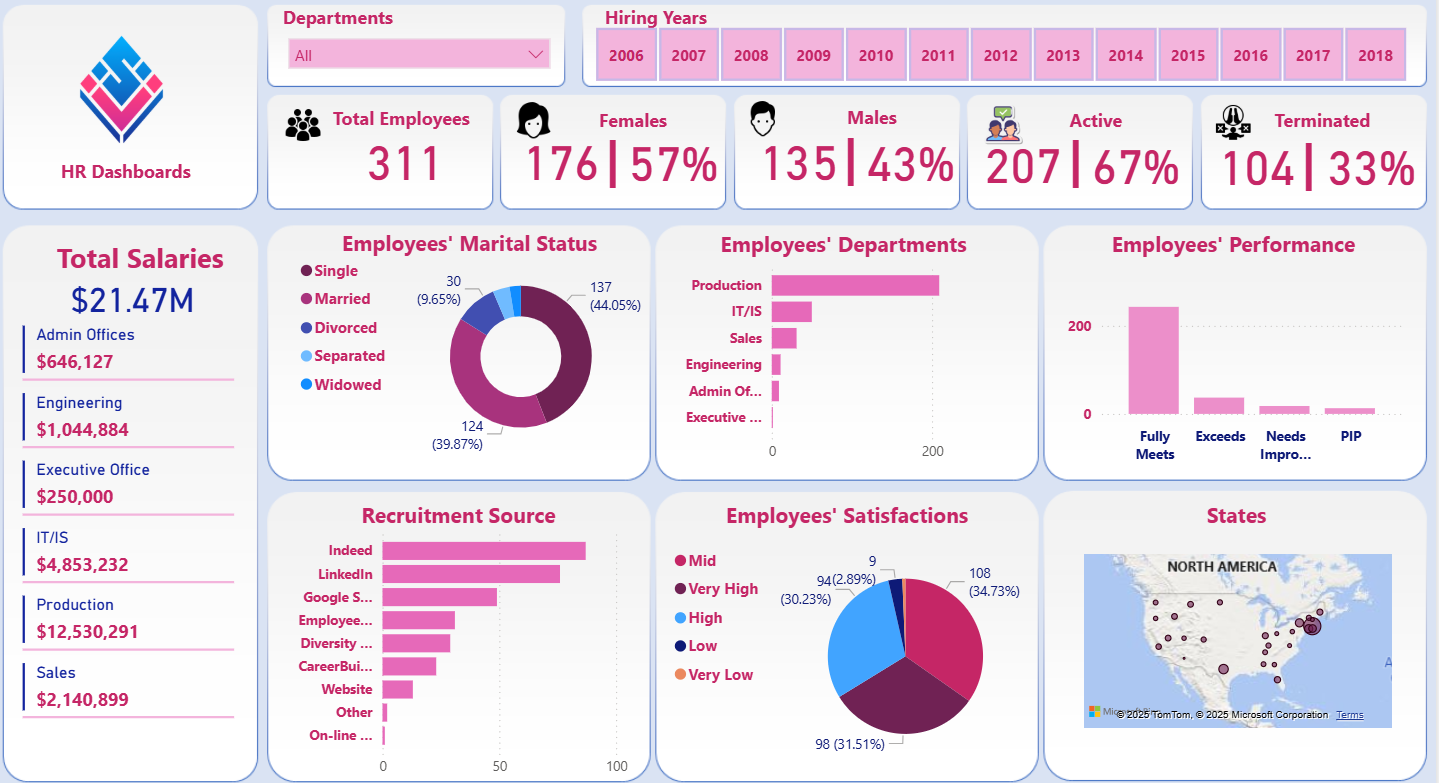

This screenshot's page, from the dashboard's own definition file:
{"tool":"powerbi","page":{"name":"Dashboard Testing","canvas":[1280,720],"ordinal":0},"visuals":[{"type":"image","box":[39.6,18,144.7,144.7],"z":0},{"type":"textbox","box":[52.1,146.5,126.7,39.6],"z":1000},{"type":"textbox","box":[249.9,9.9,126.7,39.6],"z":2000},{"type":"textbox","box":[535.7,9.9,126.7,39.6],"z":3000},{"type":"slicer","fields":{"Values":["HRData.Department"]},"box":[249.9,35.1,252.6,44.9],"z":4000},{"type":"slicer","fields":{"Values":["HRData.Hiring Year"]},"box":[507.9,28.8,769.4,61.1],"z":5000},{"type":"textbox","box":[293.9,99.8,147.4,38.7],"z":6000},{"type":"image","box":[252.6,101.6,41.3,41.3],"z":7000},{"type":"card","fields":{"Values":["All Measures.Total Employees"]},"box":[293.9,99.8,138.4,103.4],"z":8000},{"type":"textbox","box":[492.6,101.6,147.4,38.7],"z":9000},{"type":"card","fields":{"Values":["All Measures.Female"]},"box":[444,112.4,115.1,78.2],"z":10000},{"type":"image","box":[453,95.3,49.4,44.9],"z":11000},{"type":"textbox","box":[535.7,117.8,46.7,89],"z":12000},{"type":"card","fields":{"Values":["All Measures.Female %"]},"box":[543.8,113.3,115.1,78.2],"z":13000},{"type":"textbox","box":[704.8,99,147.4,38.7],"z":14000},{"type":"card","fields":{"Values":["All Measures.Male"]},"box":[656.2,112.4,115.1,78.2],"z":15000},{"type":"textbox","box":[748,115.2,46.7,89],"z":16000},{"type":"card","fields":{"Values":["All Measures.Male %"]},"box":[756,113.3,115.1,78.2],"z":17000},{"type":"image","box":[658.9,94.4,45.8,44],"z":18000},{"type":"textbox","box":[904.2,101.6,147.4,38.7],"z":19000},{"type":"card","fields":{"Values":["All Measures.Active Employees"]},"box":[855.5,114.9,115.1,78.2],"z":20000},{"type":"textbox","box":[947.3,117.8,46.7,89],"z":21000},{"type":"card","fields":{"Values":["All Measures.Active %"]},"box":[955.5,116,115.1,78.2],"z":22000},{"type":"image","box":[871,97.1,47.6,47.6],"z":23000},{"type":"textbox","box":[1100.2,101.6,161.8,38.7],"z":24000},{"type":"card","fields":{"Values":["All Measures.Terminated Employees"]},"box":[1063.3,116.9,115.1,78.2],"z":25000},{"type":"textbox","box":[1155.1,119.7,46.7,89],"z":26000},{"type":"card","fields":{"Values":["All Measures.Terminated %"]},"box":[1164.9,116.9,115.1,78.2],"z":27000},{"type":"image","box":[1078.7,97.1,43.1,44],"z":28000},{"type":"textbox","box":[48.5,217.5,245.4,57.5],"z":29000},{"type":"card","fields":{"Values":["All Measures.Total Salaries"]},"box":[26.1,232.8,190.6,84.5],"z":30000},{"type":"multiRowCard","fields":{"Values":["HRData.Department","All Measures.Total Salaries"]},"box":[18.9,294.8,197.8,386.5],"z":31000},{"type":"donutChart","fields":{"Category":["HRData.MaritalStatus"],"Y":["All Measures.Total Employees"]},"box":[265.2,232.8,317.3,189.7],"z":32000},{"type":"textbox","box":[295.7,208.5,249.9,37.8],"z":33000},{"type":"barChart","fields":{"Category":["HRData.Department"],"Y":["All Measures.Total Employees"]},"box":[596,232.8,322.7,196.9],"z":34000},{"type":"textbox","box":[628.3,209.4,249.9,37.8],"z":35000},{"type":"textbox","box":[975.3,209.4,249.9,37.8],"z":36000},{"type":"columnChart","fields":{"Category":["HRData.PerformanceScore"],"Y":["All Measures.Total Employees"]},"box":[947.4,247.2,308.3,182.5],"z":37000},{"type":"barChart","fields":{"Category":["HRData.RecruitmentSource"],"Y":["All Measures.Total Employees"]},"box":[251.7,471,314.6,239.1],"z":38000},{"type":"textbox","box":[285.8,450.3,249.9,37.8],"z":39000},{"type":"donutChart","fields":{"Category":["HRData.EmployeeSatisfaction (groups)"],"Y":["All Measures.Total Employees"]},"box":[597.8,490.8,337.1,206.7],"z":40000},{"type":"textbox","box":[628.3,450.3,256.2,37.8],"z":41000},{"type":"textbox","box":[978,450.3,249.9,37.8],"z":42000},{"type":"map","fields":{"Category":["HRData.State","HRData.Country"],"Size":["All Measures.Total Employees"]},"box":[961.8,498,284,165.4],"z":43000}]}

Visuals, with their boxes on the page's 1280x720 design canvas (x1, y1, x2, y2). These are canvas units, not pixel positions in the 1439x783 screenshot, which may show the page scaled, cropped or inside an application window:
image: <box>40,18,184,163</box>
textbox: <box>52,146,179,186</box>
textbox: <box>250,10,377,50</box>
textbox: <box>536,10,662,50</box>
slicer - HRData.Department: <box>250,35,502,80</box>
slicer - HRData.Hiring Year: <box>508,29,1277,90</box>
textbox: <box>294,100,441,138</box>
image: <box>253,102,294,143</box>
card - All Measures.Total Employees: <box>294,100,432,203</box>
textbox: <box>493,102,640,140</box>
card - All Measures.Female: <box>444,112,559,191</box>
image: <box>453,95,502,140</box>
textbox: <box>536,118,582,207</box>
card - All Measures.Female %: <box>544,113,659,192</box>
textbox: <box>705,99,852,138</box>
card - All Measures.Male: <box>656,112,771,191</box>
textbox: <box>748,115,795,204</box>
card - All Measures.Male %: <box>756,113,871,192</box>
image: <box>659,94,705,138</box>
textbox: <box>904,102,1052,140</box>
card - All Measures.Active Employees: <box>856,115,971,193</box>
textbox: <box>947,118,994,207</box>
card - All Measures.Active %: <box>956,116,1071,194</box>
image: <box>871,97,919,145</box>
textbox: <box>1100,102,1262,140</box>
card - All Measures.Terminated Employees: <box>1063,117,1178,195</box>
textbox: <box>1155,120,1202,209</box>
card - All Measures.Terminated %: <box>1165,117,1280,195</box>
image: <box>1079,97,1122,141</box>
textbox: <box>48,218,294,275</box>
card - All Measures.Total Salaries: <box>26,233,217,317</box>
multiRowCard - HRData.Department x All Measures.Total Salaries: <box>19,295,217,681</box>
donutChart - HRData.MaritalStatus x All Measures.Total Employees: <box>265,233,582,422</box>
textbox: <box>296,208,546,246</box>
barChart - HRData.Department x All Measures.Total Employees: <box>596,233,919,430</box>
textbox: <box>628,209,878,247</box>
textbox: <box>975,209,1225,247</box>
columnChart - HRData.PerformanceScore x All Measures.Total Employees: <box>947,247,1256,430</box>
barChart - HRData.RecruitmentSource x All Measures.Total Employees: <box>252,471,566,710</box>
textbox: <box>286,450,536,488</box>
donutChart - HRData.EmployeeSatisfaction (groups) x All Measures.Total Employees: <box>598,491,935,698</box>
textbox: <box>628,450,884,488</box>
textbox: <box>978,450,1228,488</box>
map - HRData.State x HRData.Country: <box>962,498,1246,663</box>
